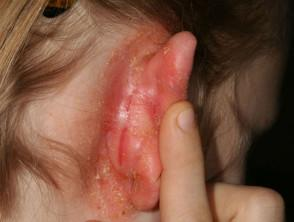Eczema: (115, 125, 129, 165), (91, 95, 114, 119), (130, 57, 150, 82), (146, 98, 164, 119), (128, 170, 144, 193), (91, 128, 114, 144), (85, 145, 107, 161), (133, 127, 151, 146), (101, 69, 119, 87), (108, 48, 128, 64), (141, 33, 157, 52), (175, 73, 188, 95), (93, 168, 109, 183), (123, 97, 138, 113), (160, 44, 175, 58), (93, 206, 108, 214), (118, 210, 127, 217)
